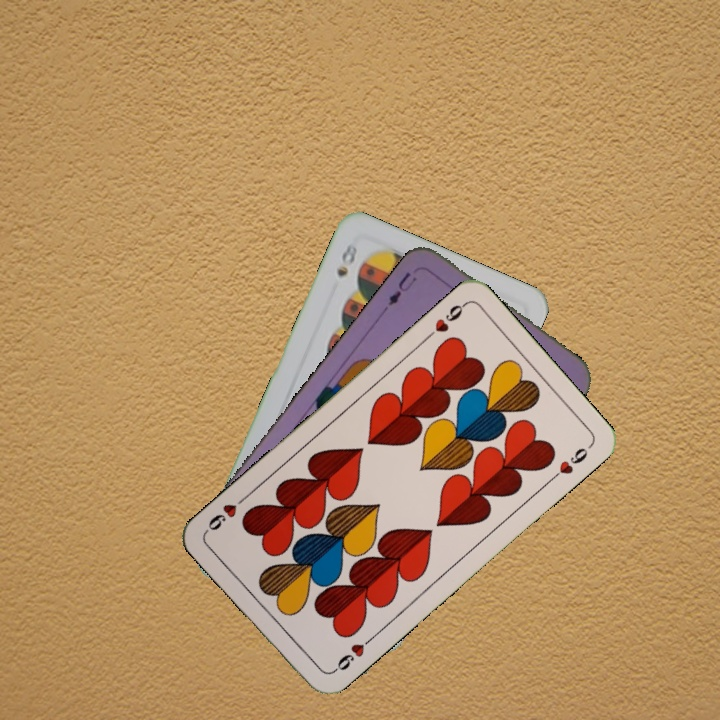EU: (383, 268, 419, 309)
H9: (327, 633, 376, 677), (421, 299, 469, 343)
S8: (332, 238, 360, 280)
